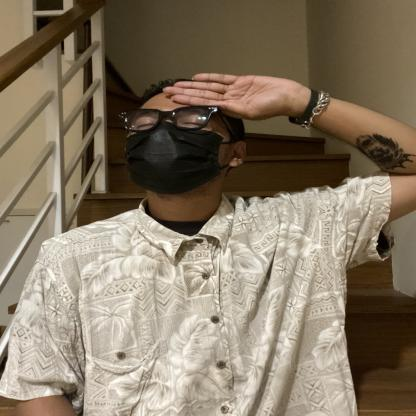Sick: (70, 42, 334, 185)
